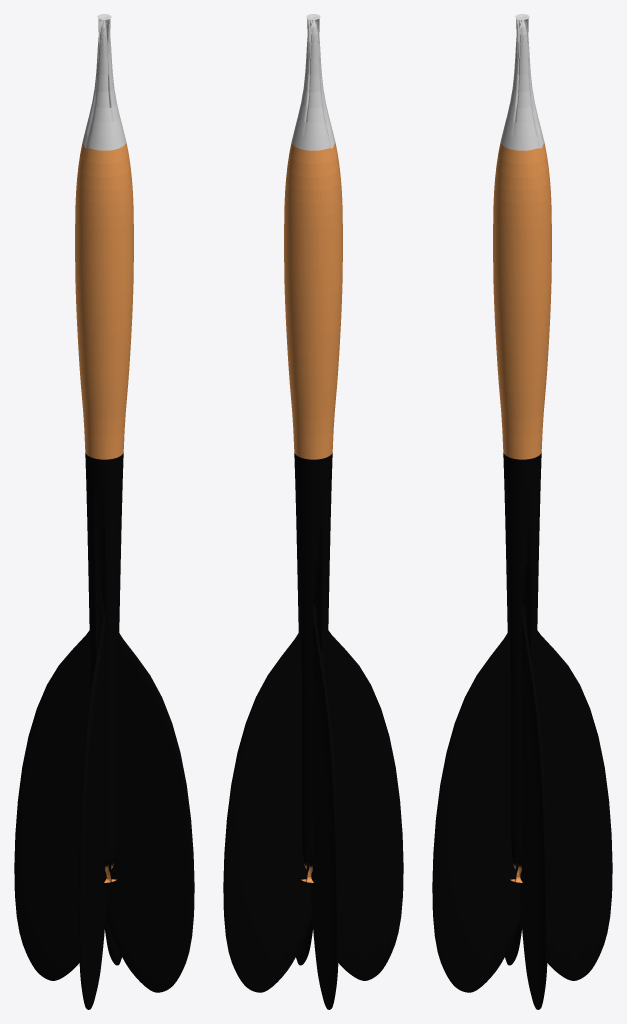
File: arrow.fbx
3 renders of one model, left to right at view 1: azimuth 30°, elevation 25°; view 2: azimuth 150°, elevation 25°; view 3: azimuth 330°, elevation 25°, orthographic.
Parts seen in each view (by area): view 1: Cylinder; view 2: Cylinder; view 3: Cylinder.
Boxes of the visible parts, x1=… form: Cylinder: x1=14, y1=14, x2=194, y2=1009; Cylinder: x1=223, y1=14, x2=403, y2=1009; Cylinder: x1=432, y1=14, x2=612, y2=1009.
Bounding box in the file's own units: 22.5 × 181 × 22.38.
